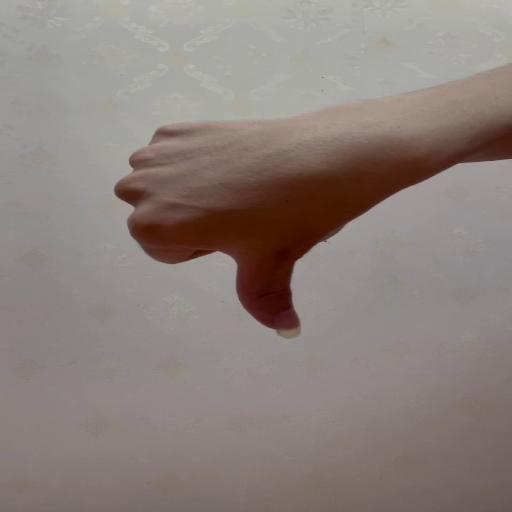thumbs_down: (114, 118, 415, 339)
